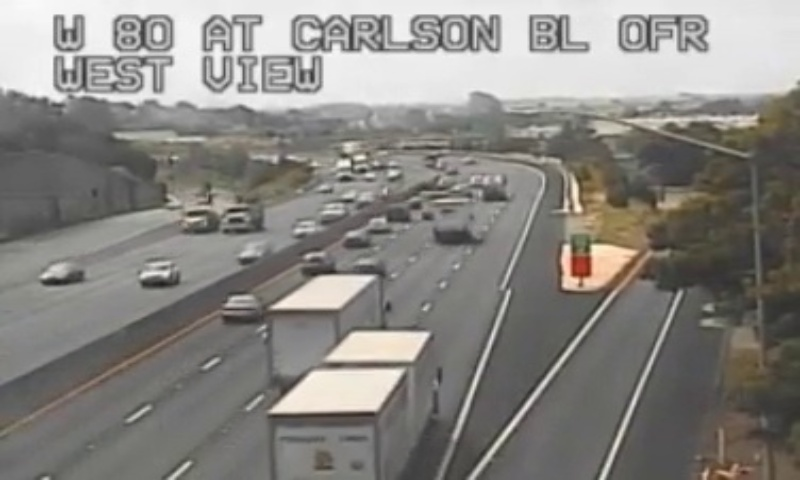car: (221, 295, 261, 321), (300, 252, 331, 274)
truck: (268, 328, 436, 480), (268, 272, 382, 389)
